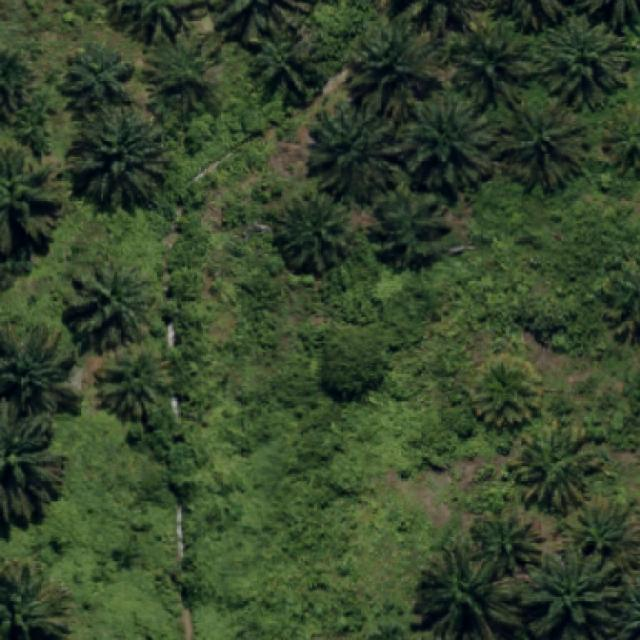Kelapa_Sawit: (68, 98, 175, 215), (303, 97, 406, 206), (403, 88, 495, 204), (60, 252, 157, 354), (496, 96, 592, 196), (508, 421, 604, 517), (539, 13, 630, 112), (348, 23, 440, 117), (447, 20, 538, 111), (143, 28, 222, 122), (271, 186, 355, 274), (248, 15, 324, 107), (370, 188, 452, 272), (94, 342, 174, 423), (564, 494, 636, 578), (469, 505, 546, 580), (63, 40, 135, 118), (474, 356, 543, 432)
